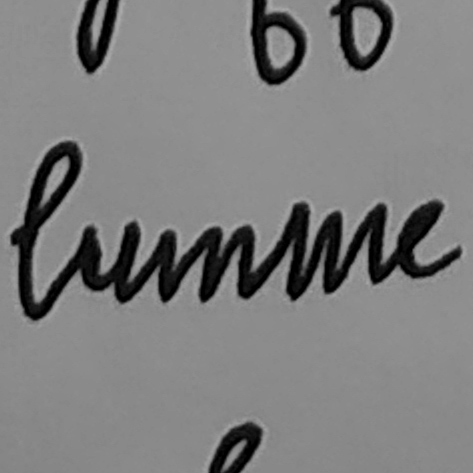e: (394, 194, 466, 282)
l: (7, 136, 86, 325)
m: (275, 195, 391, 303), (151, 220, 259, 305)
u: (74, 214, 143, 308)
